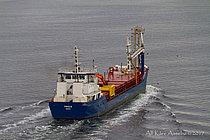Ship: (46, 23, 157, 125)
